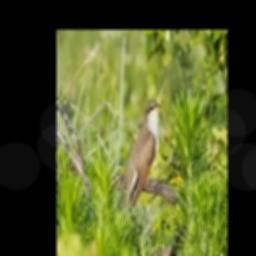Cuckoo: (122, 99, 162, 215)
